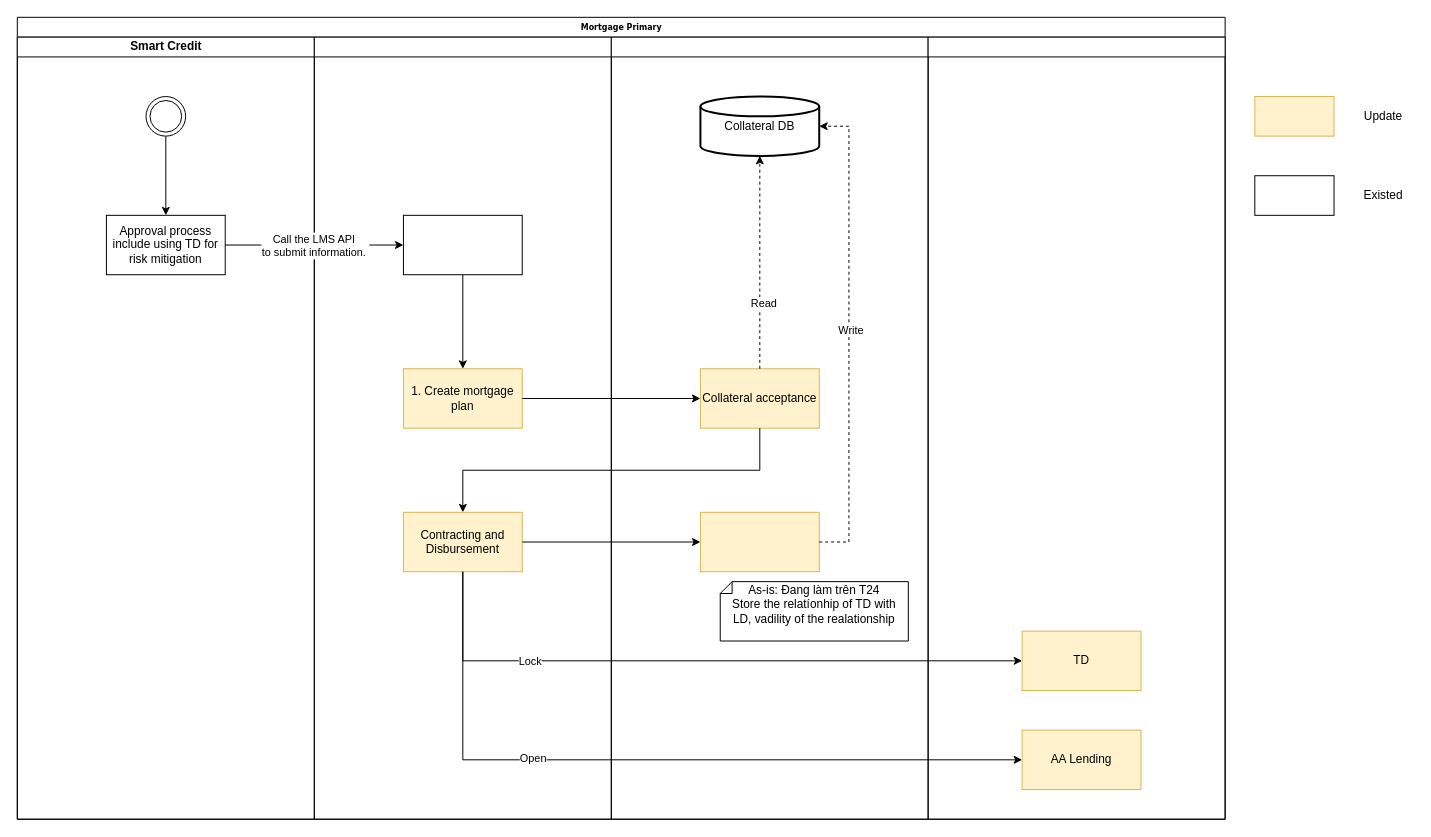
Image size: 1431x837. Some labels were removed from this diagram. Here are the shapes that lost their labels. From the top down, the box of each, then its label:
(402, 214, 522, 275): Open case
(313, 36, 611, 819): LMS
(610, 36, 928, 819): CCM
(927, 36, 1225, 819): T24
(699, 511, 819, 572): Collateral onboarding
